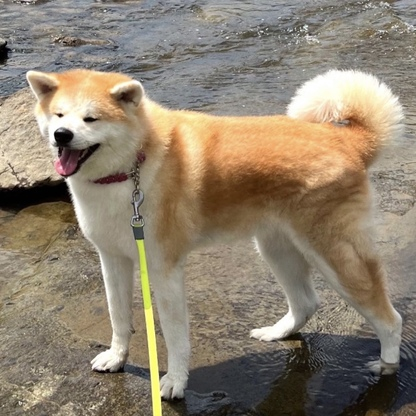akita: (19, 59, 416, 406)
